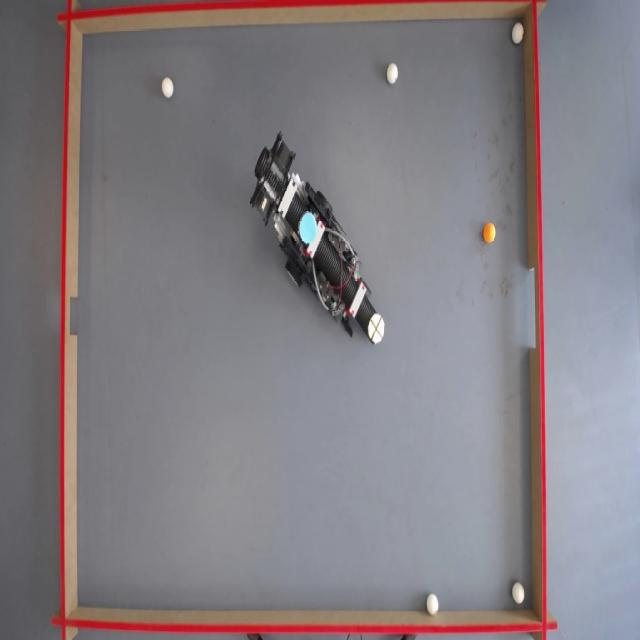orange: (484, 224, 498, 244)
robot: (246, 132, 387, 348)
robot-front: (369, 314, 386, 344)
robot-rear: (300, 212, 319, 244)
white: (513, 584, 527, 606), (512, 24, 526, 46), (426, 593, 440, 615), (163, 76, 176, 98), (386, 64, 399, 85)
